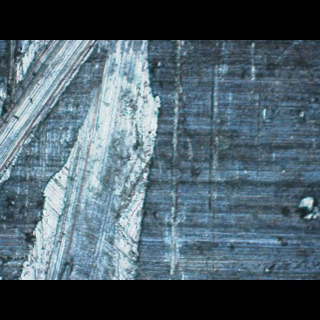d: (0, 41, 168, 279), (282, 191, 319, 225)
